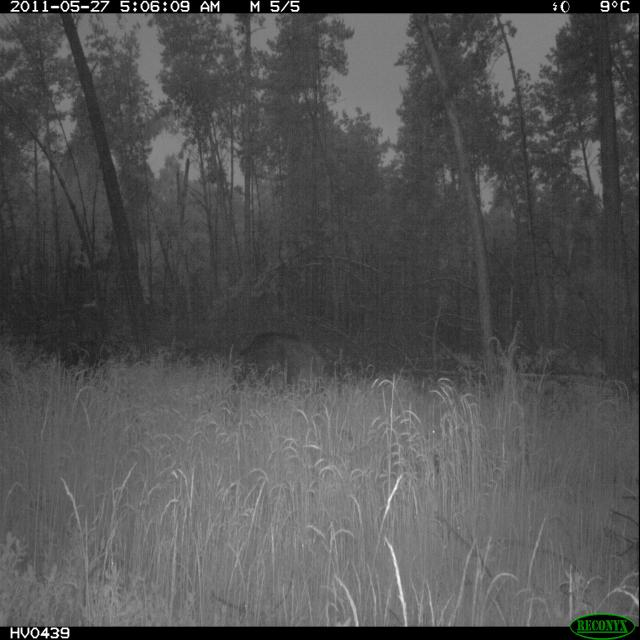boar: (225, 308, 319, 417)
